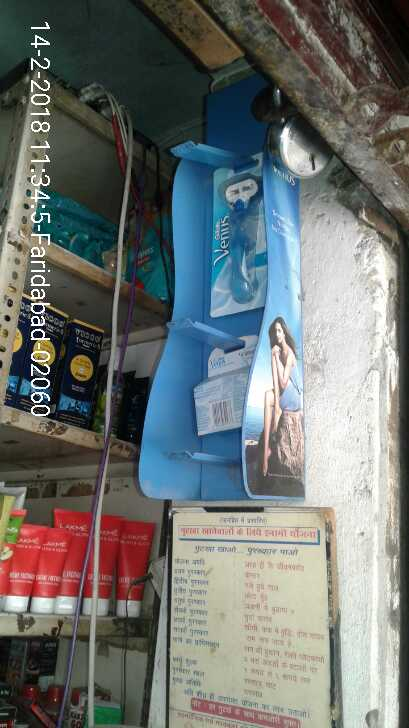venus: (208, 165, 272, 316)
